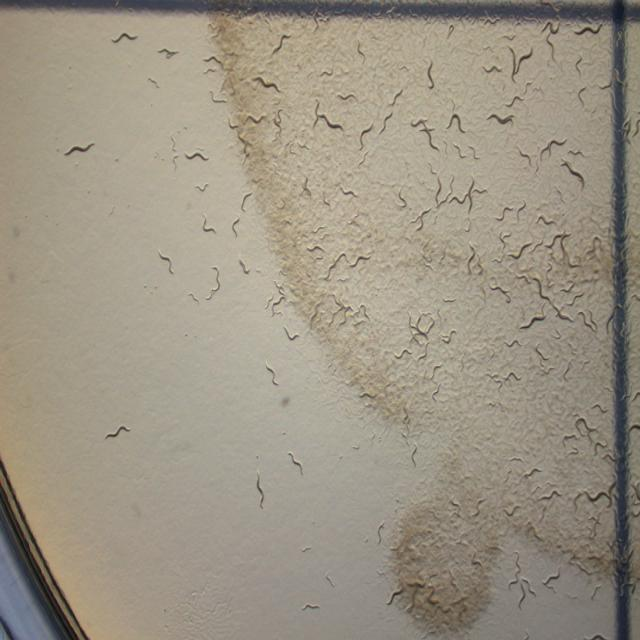filarid: (454, 177, 475, 213), (562, 160, 585, 188), (542, 566, 561, 591), (64, 142, 95, 157), (286, 450, 304, 475), (264, 360, 280, 387), (255, 470, 266, 509), (519, 312, 545, 328), (184, 148, 209, 162), (282, 325, 300, 344), (105, 425, 129, 438), (159, 250, 172, 273), (172, 137, 181, 169), (211, 267, 220, 294), (115, 55, 128, 66), (195, 182, 209, 192), (240, 260, 249, 274), (281, 395, 291, 406), (190, 292, 198, 300), (541, 146, 550, 153), (550, 140, 560, 145), (277, 284, 282, 292), (478, 191, 486, 194)
